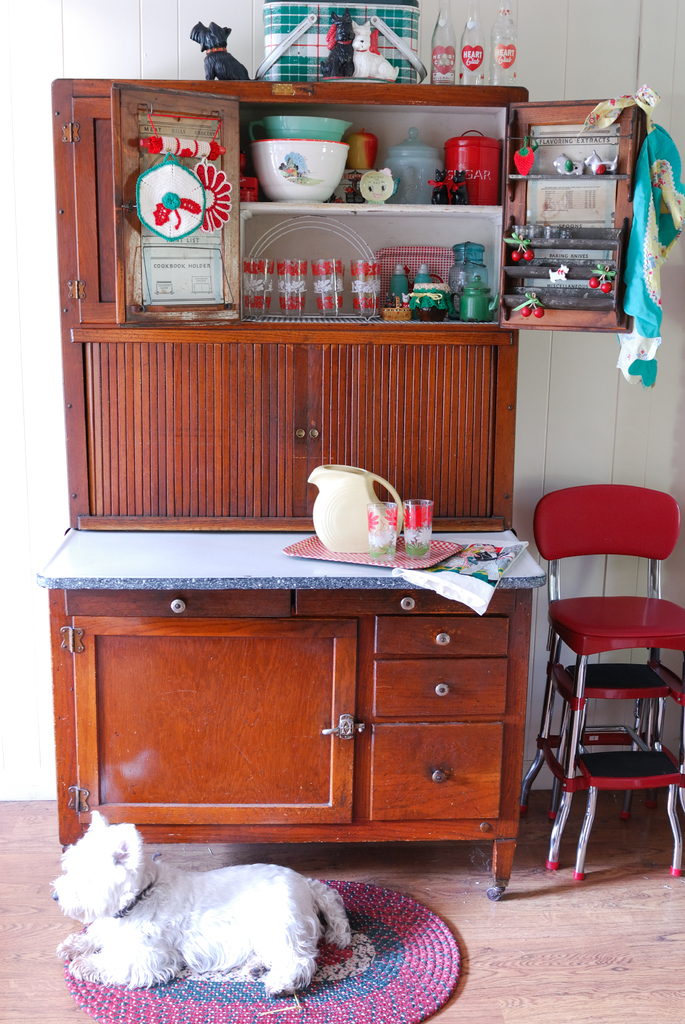cabinet door: (73, 620, 358, 804), (119, 92, 240, 320), (516, 108, 622, 320), (372, 725, 503, 812), (87, 585, 285, 630), (301, 593, 514, 630), (377, 660, 501, 718), (376, 619, 512, 653)
handle: (430, 752, 448, 798), (395, 589, 420, 619), (430, 624, 454, 653), (433, 676, 452, 708), (169, 592, 187, 620)
